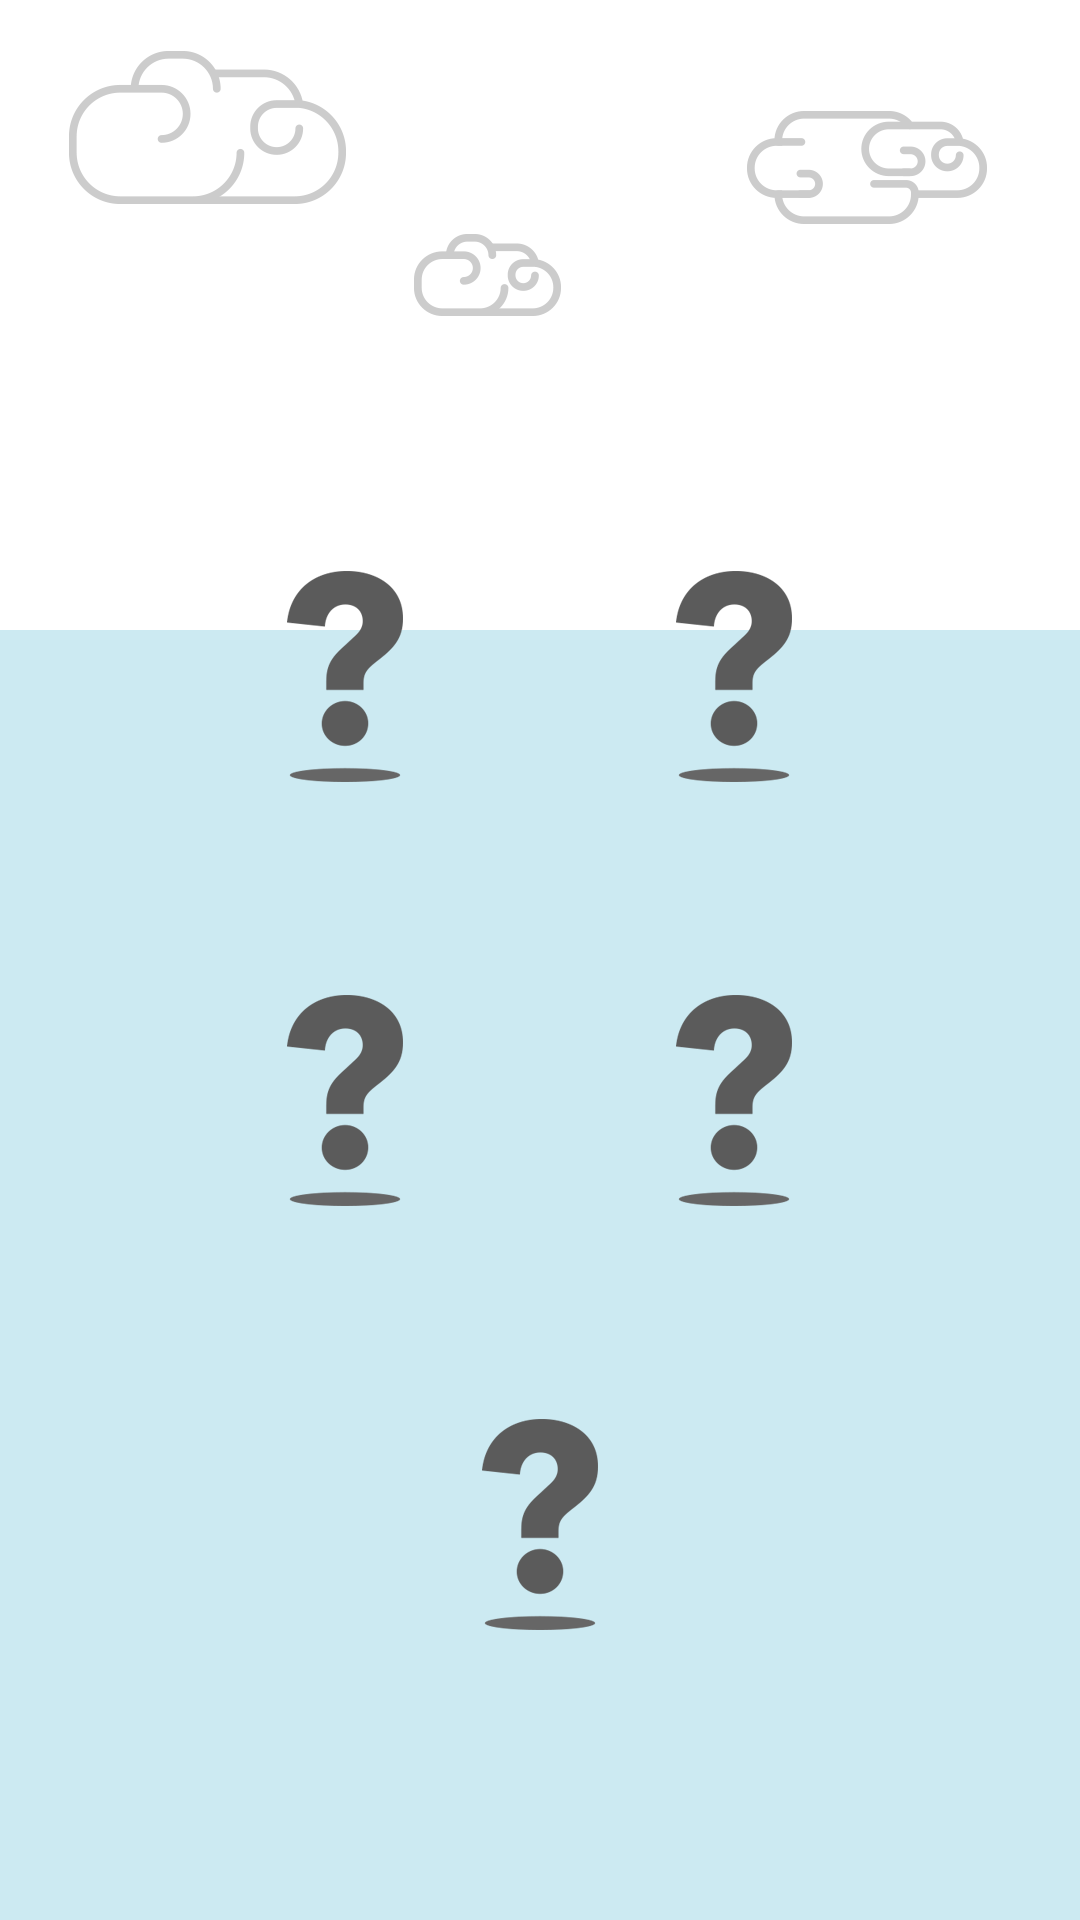

Icon click points for this 1080×1920 phone screenshot, format point (x, y):
cloud left: point (207, 127)
cloud middel: point (487, 275)
cloud right: point (867, 167)
